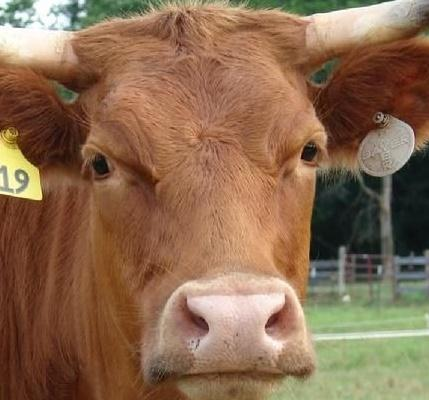muzzles: (136, 275, 321, 399)
